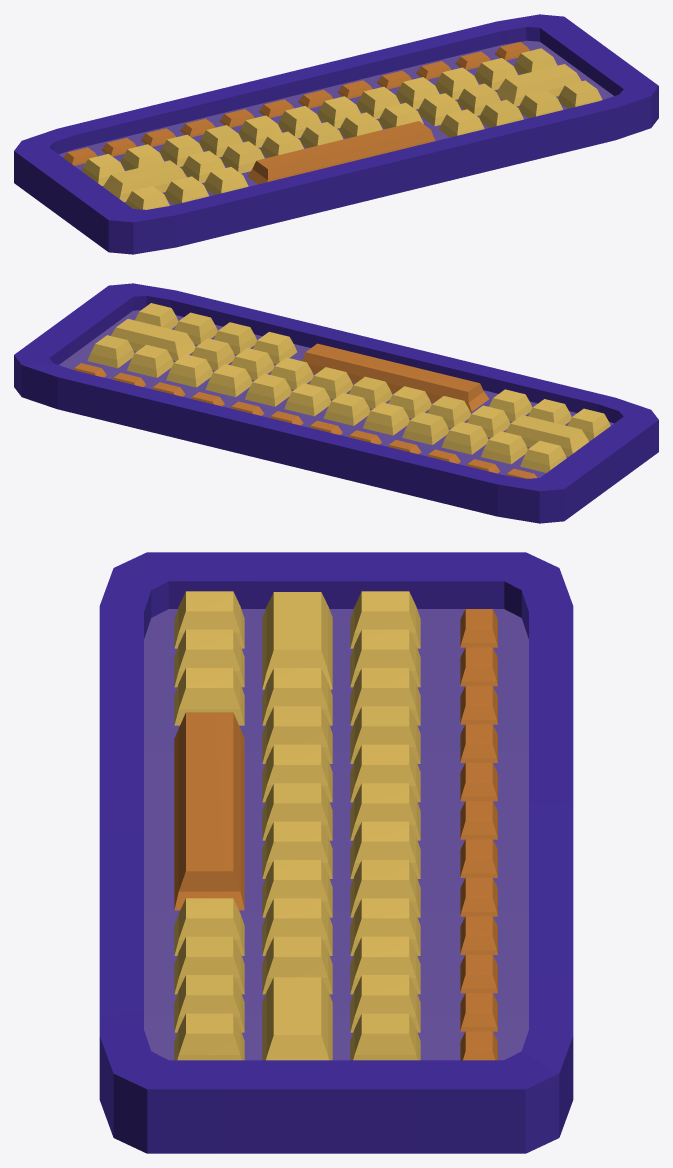
File: sp_computer_keyboard_a.fbx
3 renders of one model, top to bottom at view 1: azimuth 30°, elevation 25°; view 2: azimuth 150°, elevation 25°; view 3: azimuth 270°, elevation 25°, orthographic. The views are drawn at different scales.
Parts seen in each view (by area): view 1: sp_computer_keyboard_a; view 2: sp_computer_keyboard_a; view 3: sp_computer_keyboard_a.
Part boxes in pixels (x1,y1,x2,y2): sp_computer_keyboard_a: [14, 14, 658, 254]; sp_computer_keyboard_a: [14, 283, 658, 523]; sp_computer_keyboard_a: [99, 552, 573, 1153].
Size of the model in its own units: 91.13 by 5.48 by 33.97.
